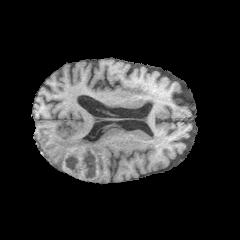glioma: (44, 134, 102, 181)
